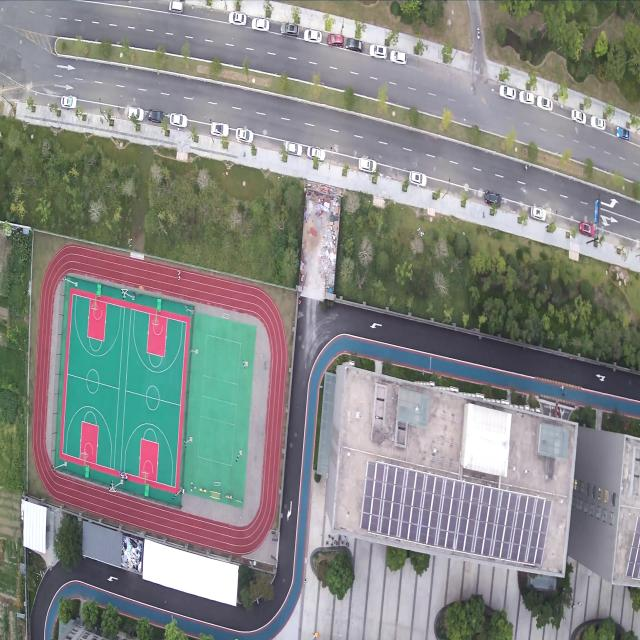UAV: (125, 237, 133, 247)
